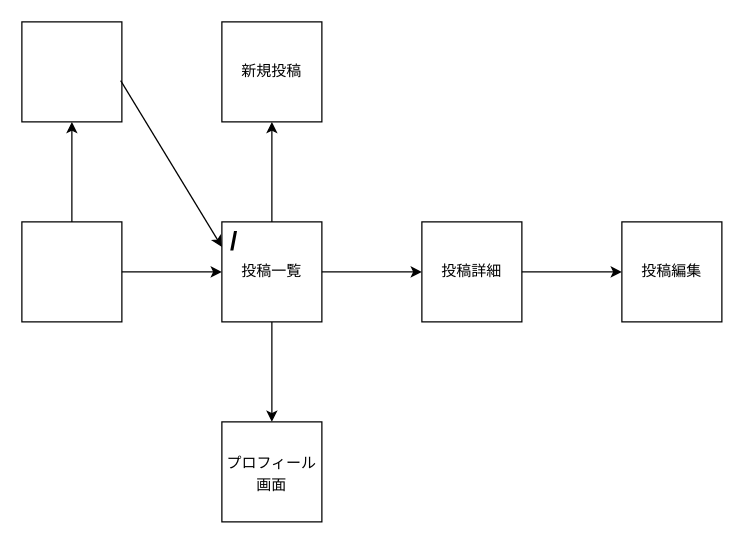
Some shapes in this 744 by 544 pixel diagram are drawn without their labels. Each missing label, with the centre of its shape:
サインアップ: the point at 71,71
ログイン: the point at 71,271
